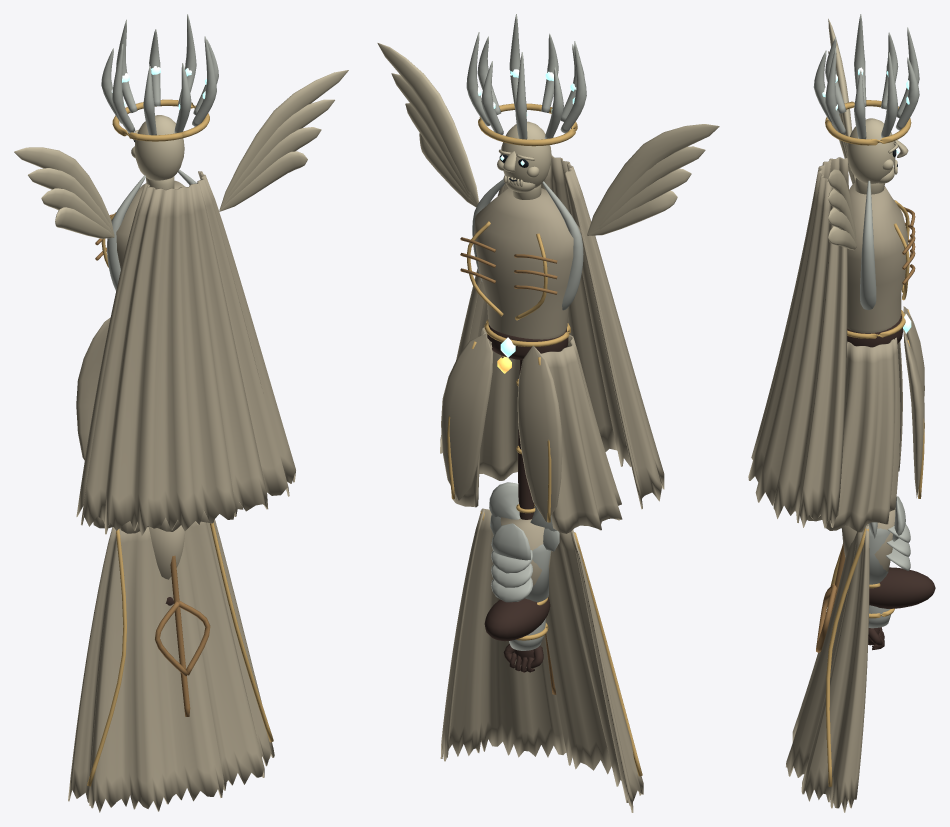
The model's file is guardian_2.glb.
3 views of the same model, side by side, from view 1: azimuth 30°, elevation 25°; view 2: azimuth 150°, elevation 25°; view 3: azimuth 270°, elevation 25° (orthographic). The views are drawn at different scales.
Visible parts, largest first — view 1: Body__linen, Cape__linen, Body__bone, Body__silver, Cape__gold, Cape__bronze, LegL__linen, Body__gold, Weapon__silver; view 2: Body__linen, Cape__linen, Body__bone, Body__silver, KneeL__silver, Body__gold, KneeL__leather, Weapon__silver, ArmR__silver, ArmL__silver, Body__bronze, Body__leather (+4 smaller); view 3: Body__linen, Cape__linen, Body__bone, Body__silver, KneeL__leather, Body__gold, KneeL__silver, Weapon__silver, Cape__gold, Cape__bronze, LegL__linen, Body__leather (+1 smaller).
Boxes of the visible parts, bbox=[...] form: Body__linen: bbox=[76, 171, 295, 536]; Cape__linen: bbox=[68, 519, 274, 812]; Body__bone: bbox=[14, 70, 348, 238]; Body__silver: bbox=[101, 14, 218, 135]; Cape__gold: bbox=[87, 522, 273, 786]; Cape__bronze: bbox=[155, 555, 210, 716]; LegL__linen: bbox=[148, 525, 185, 579]; Body__gold: bbox=[101, 99, 209, 267]; Weapon__silver: bbox=[107, 169, 197, 290]; Body__linen: bbox=[440, 155, 664, 533]; Cape__linen: bbox=[440, 508, 643, 812]; Body__bone: bbox=[377, 43, 719, 235]; Body__silver: bbox=[466, 14, 586, 139]; KneeL__silver: bbox=[491, 523, 550, 602]; Body__gold: bbox=[447, 103, 577, 522]; KneeL__leather: bbox=[484, 597, 550, 641]; Weapon__silver: bbox=[472, 179, 583, 310]; ArmR__silver: bbox=[489, 482, 520, 535]; ArmL__silver: bbox=[509, 505, 559, 650]; Body__bronze: bbox=[460, 237, 557, 294]; Body__leather: bbox=[487, 323, 568, 359]; Body__linen: bbox=[748, 157, 924, 532]; Cape__linen: bbox=[786, 525, 869, 812]; Body__bone: bbox=[828, 18, 908, 250]; Body__silver: bbox=[813, 14, 919, 139]; KneeL__leather: bbox=[869, 567, 935, 608]; Body__gold: bbox=[825, 100, 924, 498]; KneeL__silver: bbox=[869, 496, 910, 584]; Weapon__silver: bbox=[860, 180, 876, 310]; Cape__gold: bbox=[826, 528, 868, 786]; Cape__bronze: bbox=[816, 543, 845, 653]; LegL__linen: bbox=[841, 508, 895, 571]; Body__leather: bbox=[847, 314, 903, 347].
Bounding box in the file's own units: 1.72 × 3.65 × 0.8464.
